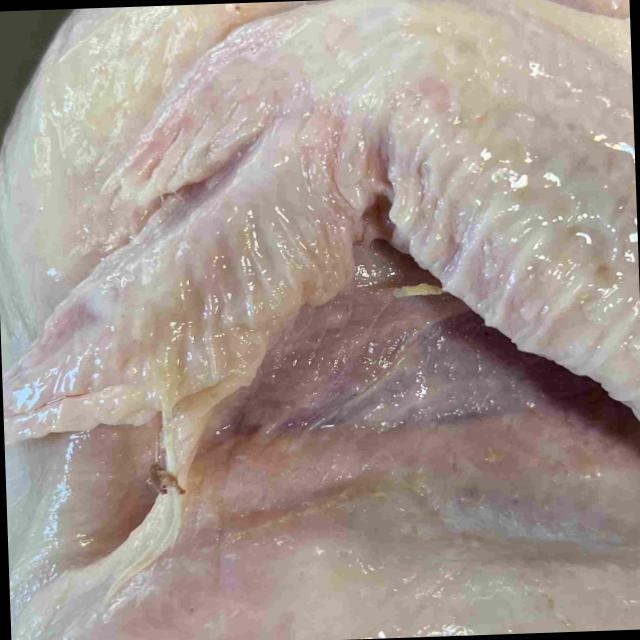leg: (25, 510, 377, 640)
wing: (1, 0, 640, 437)
